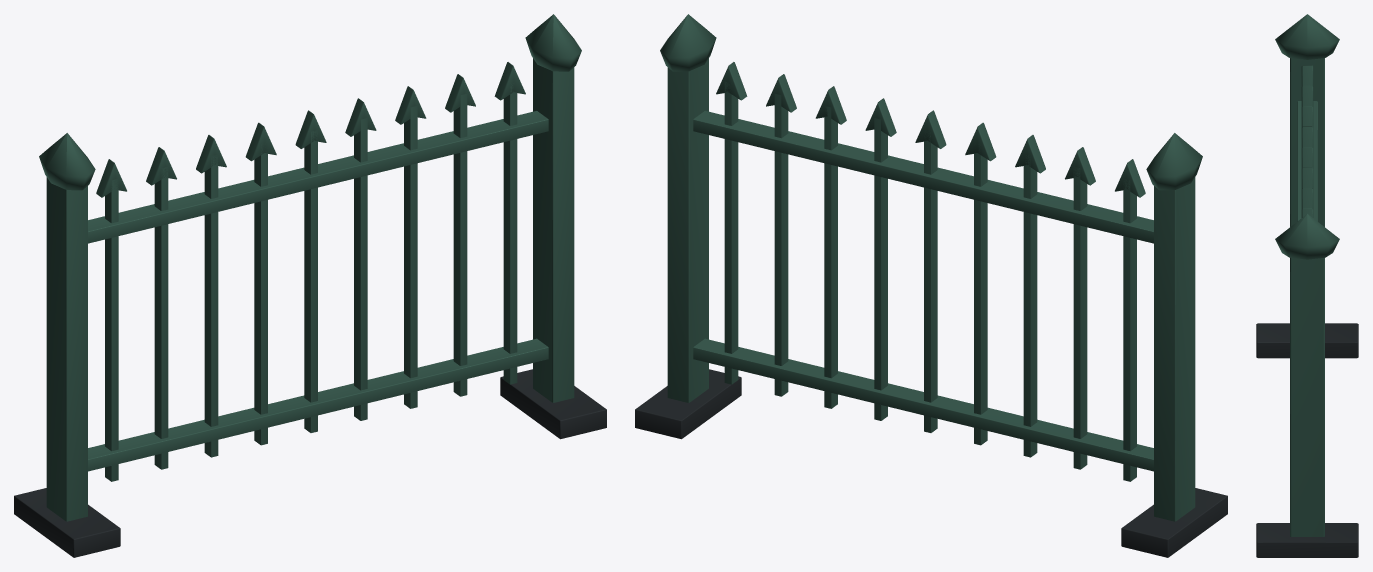
The model's file is S065_iron_fence_rebuilt.glb.
The picture shows the model from 3 angles, left to right: view 1: azimuth 30°, elevation 25°; view 2: azimuth 150°, elevation 25°; view 3: azimuth 270°, elevation 25°; orthographic projection. The views are drawn at different scales.
Visible parts, largest first — view 1: Deep_green_outdoor_paint, Deep_joint_recess.001; view 2: Deep_green_outdoor_paint, Deep_joint_recess.001; view 3: Deep_green_outdoor_paint, Deep_joint_recess.001.
Part boxes in pixels (bbox=[...]): Deep_green_outdoor_paint: bbox=[39, 14, 581, 521]; Deep_joint_recess.001: bbox=[14, 369, 606, 557]; Deep_green_outdoor_paint: bbox=[660, 14, 1202, 521]; Deep_joint_recess.001: bbox=[635, 369, 1227, 557]; Deep_green_outdoor_paint: bbox=[1275, 14, 1339, 536]; Deep_joint_recess.001: bbox=[1256, 323, 1358, 557].
Bounding box in the file's own units: 2.54 × 1.81 × 0.5.
